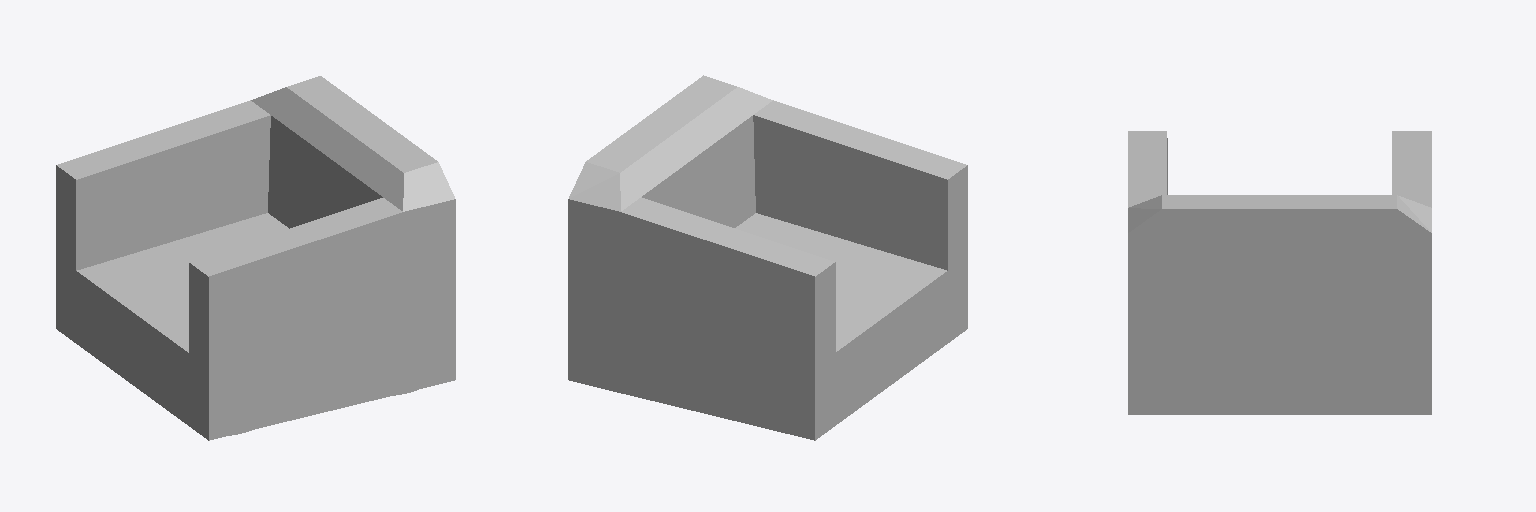
Rendered from sofa2.obj.
3 views of the same model, side by side, from view 1: azimuth 30°, elevation 25°; view 2: azimuth 150°, elevation 25°; view 3: azimuth 270°, elevation 25° (orthographic).
Parts seen in each view (by area): view 1: Cube; view 2: Cube; view 3: Cube.
Boxes of the visible parts, <box> form: Cube: <box>56,76,455,440</box>; Cube: <box>568,75,967,440</box>; Cube: <box>1128,131,1431,414</box>.
Size of the model in its own units: 3.93 by 3.26 by 4.2.